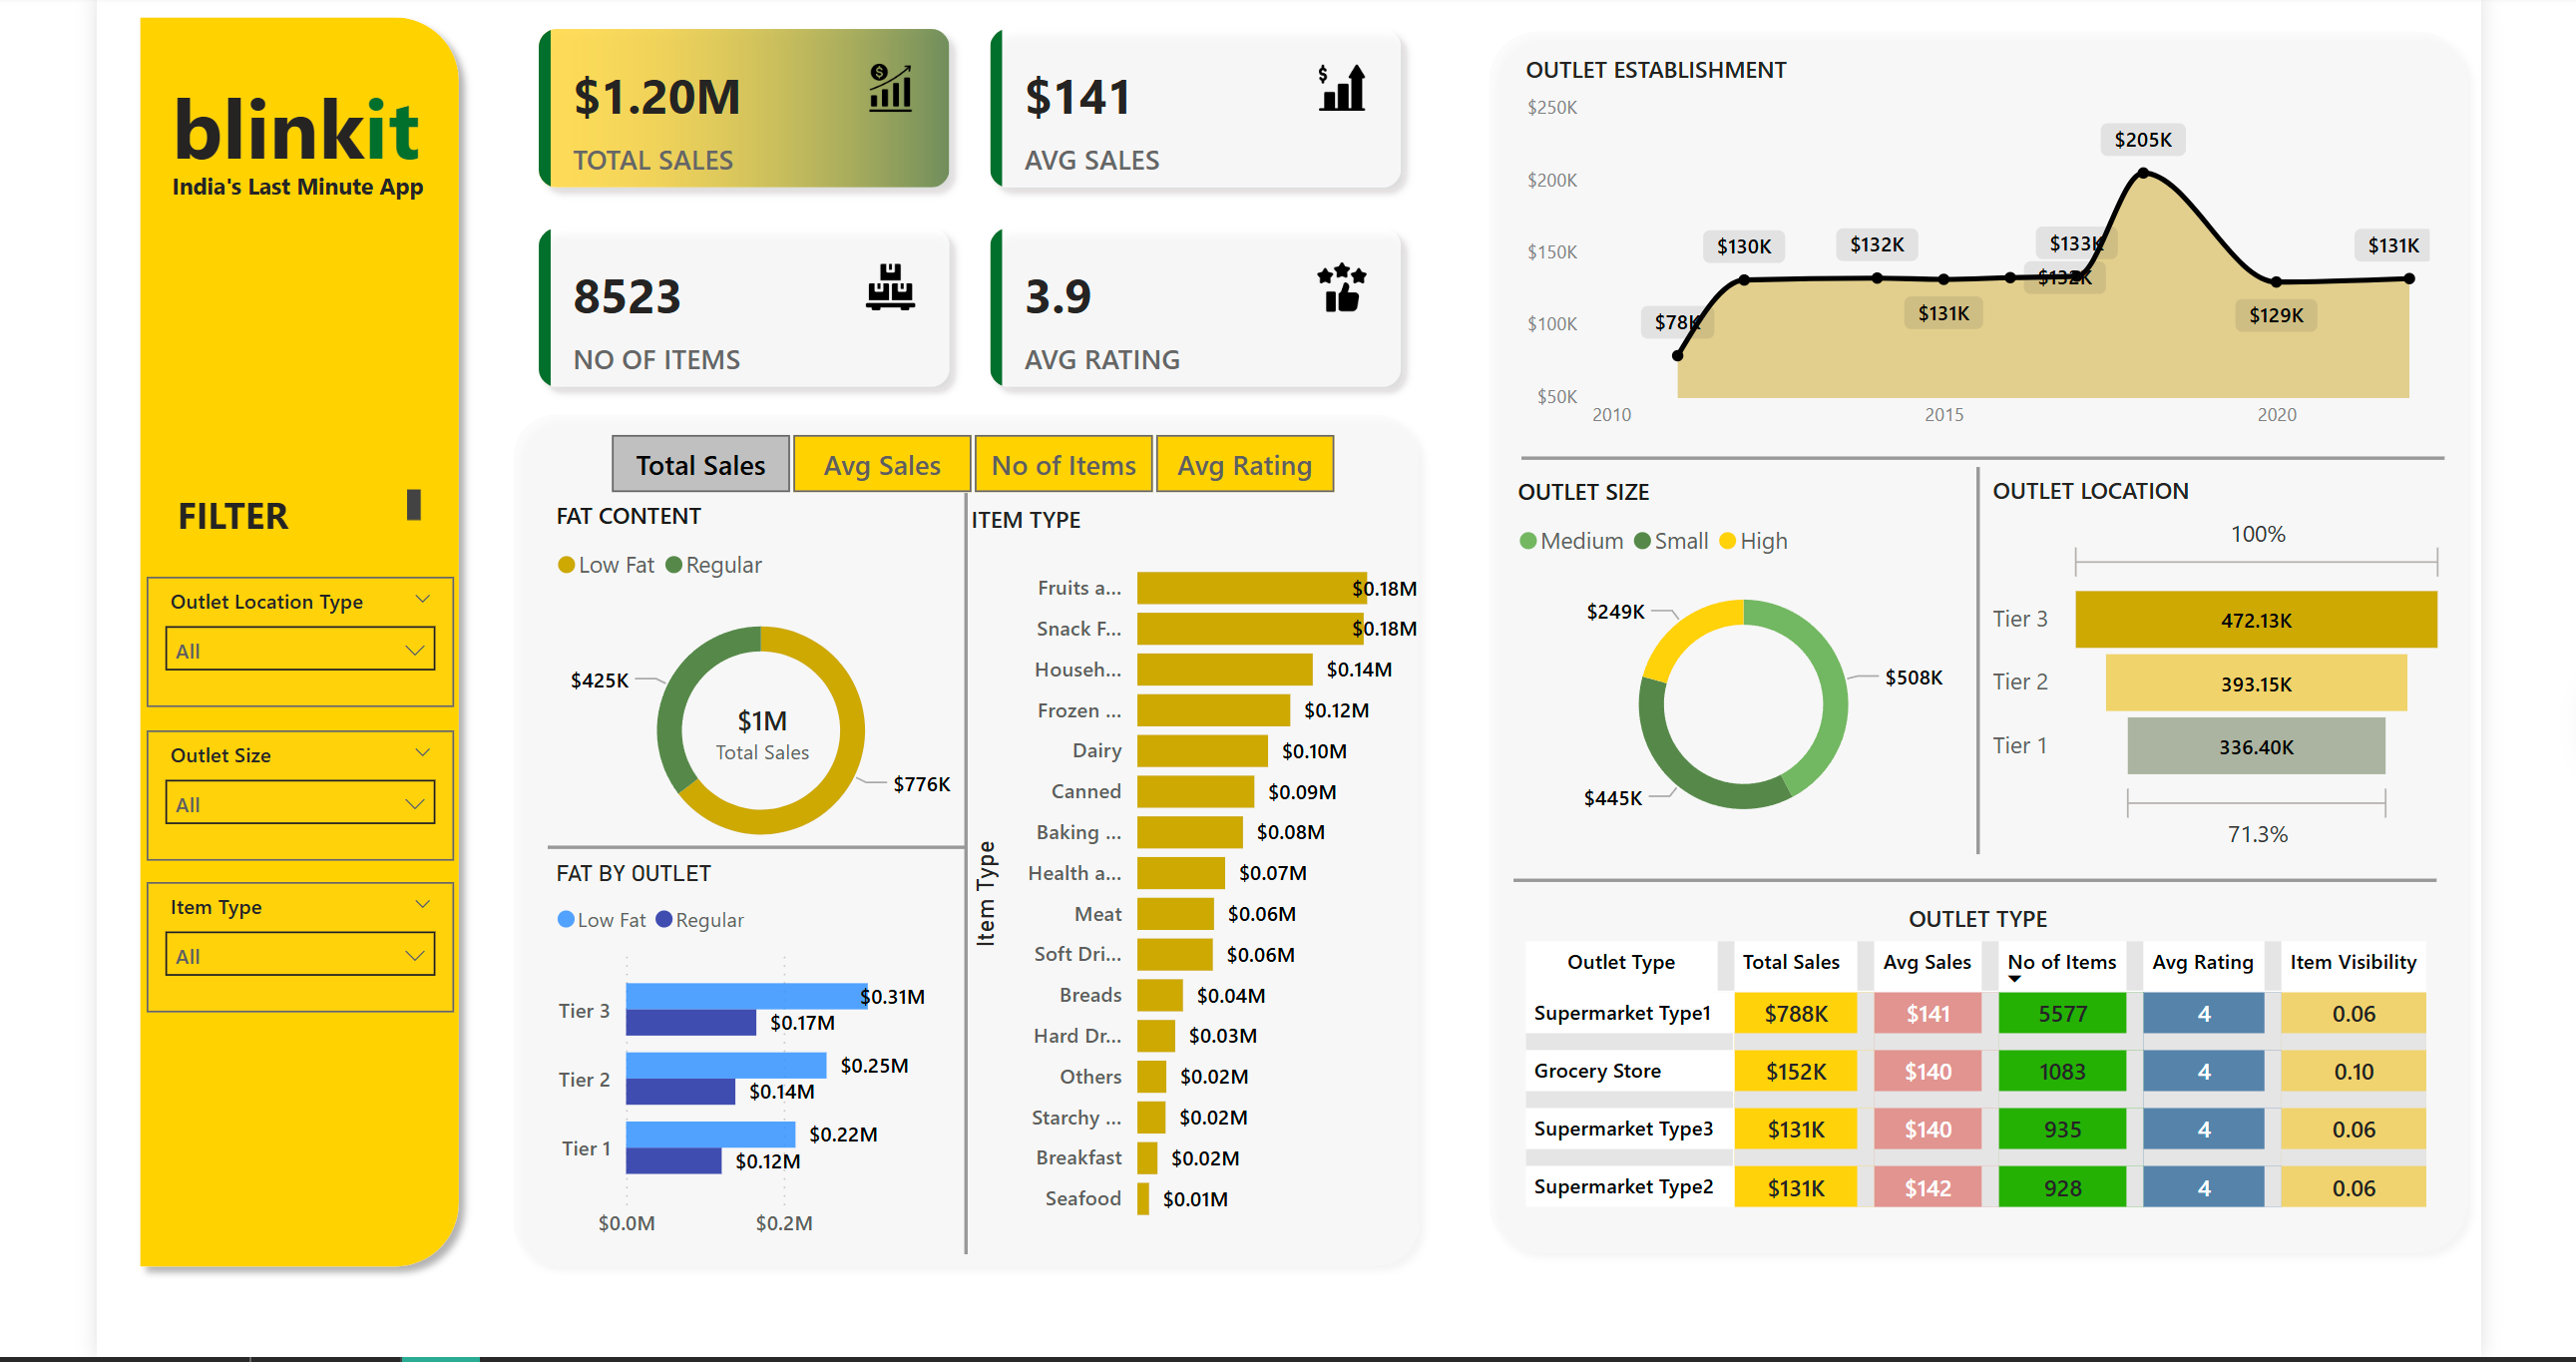

The dashboard page shown, as its layout file describes it:
{"tool":"powerbi","page":{"name":"Page 1","canvas":[1400,800],"ordinal":0},"visuals":[{"type":"shape","box":[15.9,4.3,205.2,751.3],"z":0},{"type":"textbox","box":[33.5,40.2,165.8,77],"z":1000},{"type":"textbox","box":[35.2,98.8,165.8,36.8],"z":2000},{"type":"cardVisual","fields":{"Data":["BlinkIT.Total Sales","BlinkIT.Avg Sales","BlinkIT.No of Items","BlinkIT.Avg Rating"]},"box":[242.7,3.9,541.9,245.3],"z":3000},{"type":"shape","box":[235,237.6,549.6,517.5],"z":4000},{"type":"donutChart","title":"FAT CONTENT","fields":{"Y":["BlinkIT.Total Sales"],"Category":["BlinkIT.Item Fat Content"]},"box":[264.5,291.5,250.4,228.6],"z":5000},{"type":"slicer","fields":{"Values":["Metrics.Metrics"]},"box":[276.1,251.7,473.8,47.5],"z":6000},{"type":"cardVisual","fields":{"Data":["BlinkIT.Total Sales"]},"box":[340.3,392.9,100.2,82.2],"z":7000},{"type":"clusteredBarChart","title":"FAT BY OUTLET","fields":{"Y":["BlinkIT.Total Sales"],"Category":["BlinkIT.Outlet Location Type"],"Series":["BlinkIT.Item Fat Content"]},"box":[264.5,508.5,244,231.1],"z":8000},{"type":"shape","box":[264.5,493.1,245.3,15.4],"z":9000},{"type":"shape","box":[488,292.8,43.7,446.9],"z":10000},{"type":"barChart","title":"ITEM TYPE","fields":{"Y":["BlinkIT.Total Sales"],"Category":["BlinkIT.Item Type"]},"box":[508.5,299.2,272.2,432.7],"z":11000},{"type":"shape","box":[807.7,12.8,592,734.5],"z":12000},{"type":"lineChart","title":"OUTLET ESTABLISHMENT","fields":{"Y":["BlinkIT.Total Sales"],"Category":["BlinkIT.Outlet Establishment Year"]},"box":[833.4,30.8,540.6,233.7],"z":13000},{"type":"shape","box":[836,264.5,541.9,15.4],"z":14000},{"type":"donutChart","title":"OUTLET  SIZE","fields":{"Y":["BlinkIT.Total Sales"],"Category":["BlinkIT.Outlet Size"]},"box":[829.5,277.4,274.8,226],"z":15000},{"type":"shape","box":[1092.8,277.4,23.1,227.3],"z":16000},{"type":"funnel","title":"OUTLET LOCATION","fields":{"Y":["Sum(BlinkIT.Sales)"],"Category":["BlinkIT.Outlet Location Type"]},"box":[1108.2,277.4,276.1,231.1],"z":17000},{"type":"shape","box":[832.1,512.4,541.9,16.7],"z":18000},{"type":"pivotTable","title":"OUTLET TYPE","fields":{"Rows":["BlinkIT.Outlet Type"],"Values":["BlinkIT.Total Sales","BlinkIT.Avg Sales","BlinkIT.No of Items","BlinkIT.Avg Rating","Avg(BlinkIT.Item Visibility)"]},"box":[833.4,532.9,540.6,195.2],"z":19000},{"type":"slicer","fields":{"Values":["BlinkIT.Outlet Location Type"]},"box":[28.9,342.4,180.6,76.6],"z":20000},{"type":"slicer","fields":{"Values":["BlinkIT.Outlet Size"]},"box":[28.9,432,180.6,76.6],"z":21000},{"type":"slicer","fields":{"Values":["BlinkIT.Item Type"]},"box":[28.9,521.6,180.6,76.6],"z":22000},{"type":"textbox","box":[41.9,286.1,153.1,41.9],"z":22001}]}

Visuals, with their boxes on the page's 1400x800 design canvas (x1, y1, x2, y2). These are canvas units, not pixel positions in the 2576x1362 screenshot, which may show the page scaled, cropped or inside an application window:
shape: bbox=(16, 4, 221, 756)
textbox: bbox=(34, 40, 199, 117)
textbox: bbox=(35, 99, 201, 136)
cardVisual - BlinkIT.Total Sales x BlinkIT.Avg Sales: bbox=(243, 4, 785, 249)
shape: bbox=(235, 238, 785, 755)
"FAT CONTENT" donutChart: bbox=(264, 292, 515, 520)
slicer - Metrics.Metrics: bbox=(276, 252, 750, 299)
cardVisual - BlinkIT.Total Sales: bbox=(340, 393, 440, 475)
"FAT BY OUTLET" clusteredBarChart: bbox=(264, 508, 508, 740)
shape: bbox=(264, 493, 510, 508)
shape: bbox=(488, 293, 532, 740)
"ITEM TYPE" barChart: bbox=(508, 299, 781, 732)
shape: bbox=(808, 13, 1400, 747)
"OUTLET ESTABLISHMENT" lineChart: bbox=(833, 31, 1374, 264)
shape: bbox=(836, 264, 1378, 280)
"OUTLET  SIZE" donutChart: bbox=(830, 277, 1104, 503)
shape: bbox=(1093, 277, 1116, 505)
"OUTLET LOCATION" funnel: bbox=(1108, 277, 1384, 508)
shape: bbox=(832, 512, 1374, 529)
"OUTLET TYPE" pivotTable: bbox=(833, 533, 1374, 728)
slicer - BlinkIT.Outlet Location Type: bbox=(29, 342, 210, 419)
slicer - BlinkIT.Outlet Size: bbox=(29, 432, 210, 509)
slicer - BlinkIT.Item Type: bbox=(29, 522, 210, 598)
textbox: bbox=(42, 286, 195, 328)
